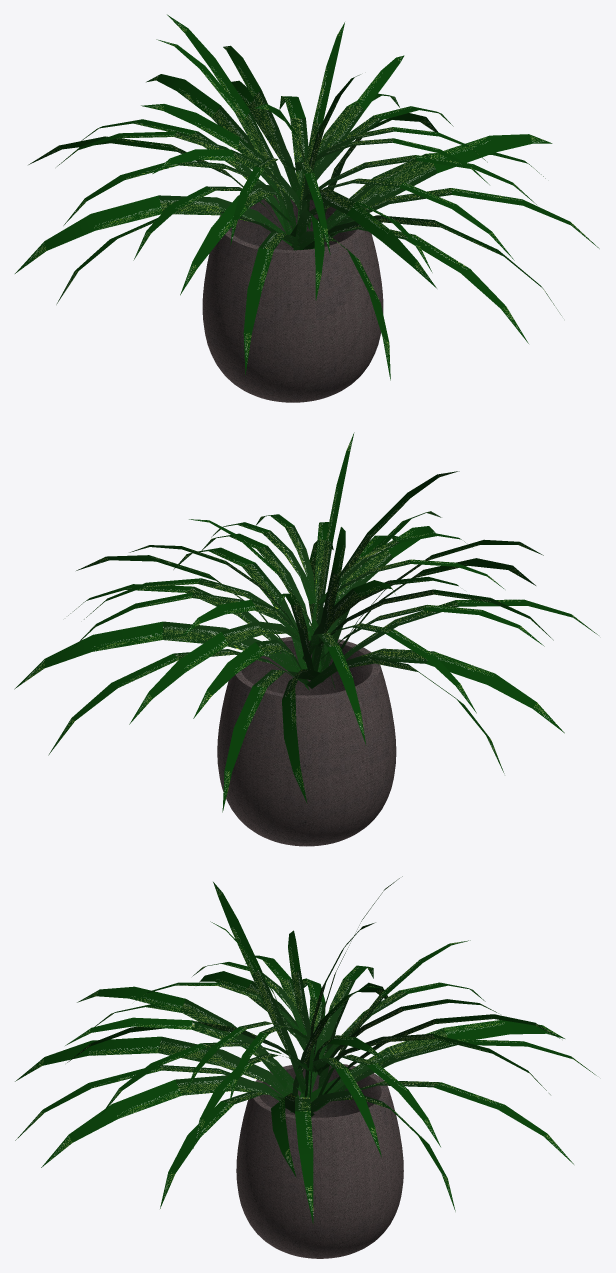
File: plant.dae
3 renders of one model, top to bottom at view 1: azimuth 30°, elevation 25°; view 2: azimuth 150°, elevation 25°; view 3: azimuth 270°, elevation 25°, orthographic. The views are drawn at different scales.
Visible parts, largest first — view 1: spiderLeaf (×37), group_1; view 2: spiderLeaf (×35), group_1; view 3: spiderLeaf (×35), group_1.
Part boxes in pixels (x1=…): spiderLeaf (×37): x1=15, y1=14, x2=599, y2=380; group_1: x1=202, y1=195, x2=383, y2=402; spiderLeaf (×35): x1=14, y1=432, x2=598, y2=812; group_1: x1=217, y1=637, x2=396, y2=846; spiderLeaf (×35): x1=15, y1=882, x2=596, y2=1223; group_1: x1=236, y1=1064, x2=403, y2=1258.
Size of the model in its own units: 22.17 by 24.23 by 15.29.
